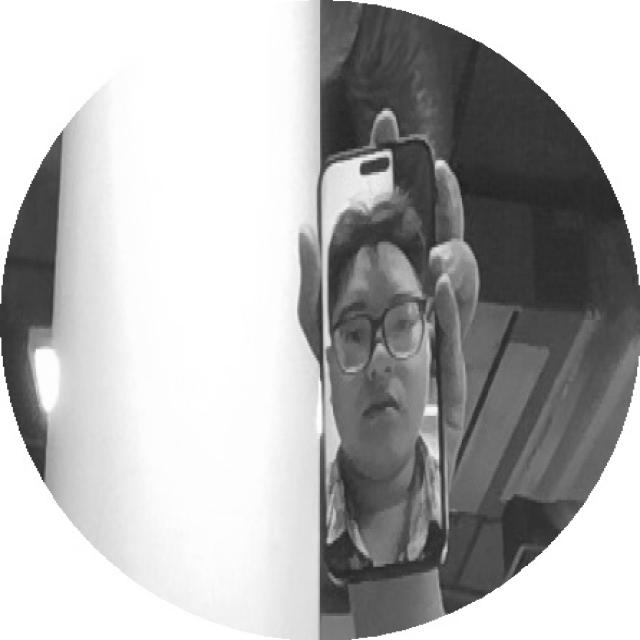fake: (304, 133, 483, 589), (306, 132, 454, 592)
